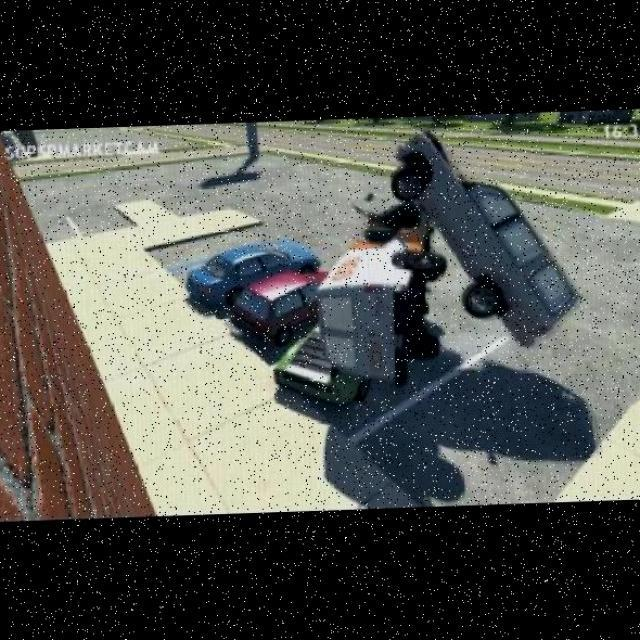accident: (307, 121, 601, 395)
